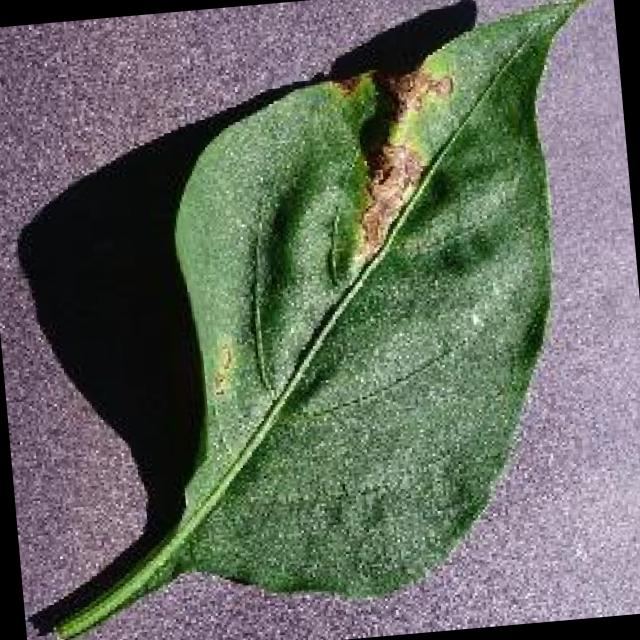Chilli_Bacterial_Spot: (0, 0, 640, 640), (140, 45, 521, 610), (158, 74, 398, 414), (325, 54, 472, 262), (316, 209, 360, 289), (204, 337, 242, 400), (422, 70, 456, 102)
